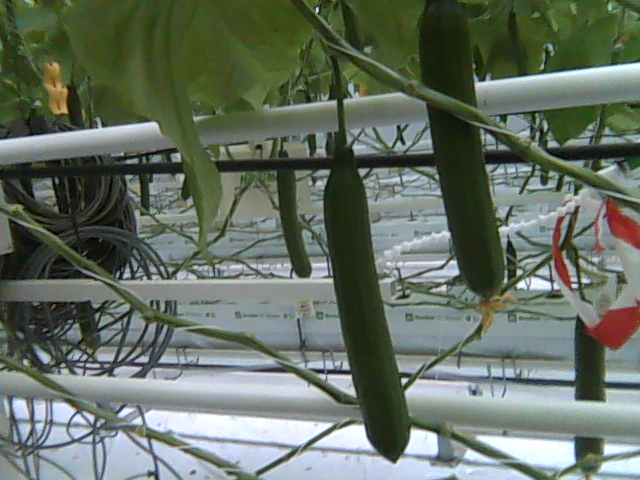concombre: (417, 1, 513, 335), (319, 136, 413, 464)
